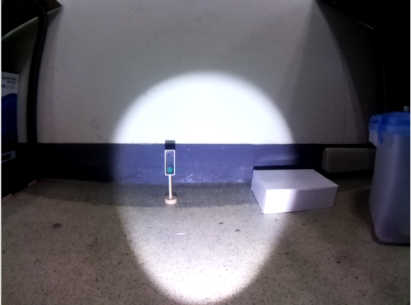Green: (161, 150, 177, 179)
